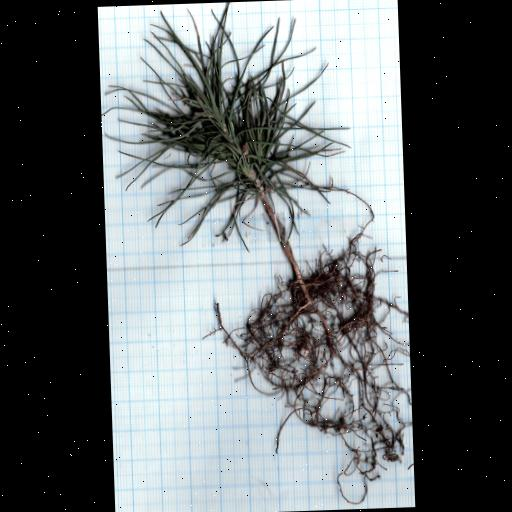flowerCedr: (106, 1, 374, 281)
rootCedr: (204, 247, 411, 504)
stemCedr: (261, 196, 305, 292)
